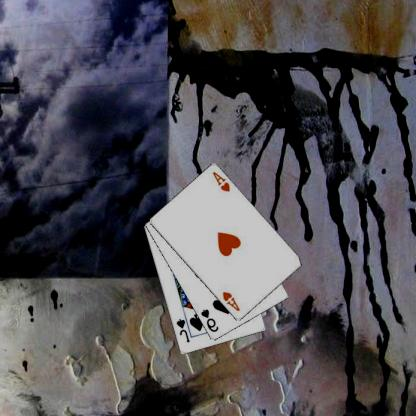6S: (200, 307, 221, 333)
AH: (222, 289, 243, 313), (212, 169, 233, 193)
JS: (176, 316, 192, 344)
